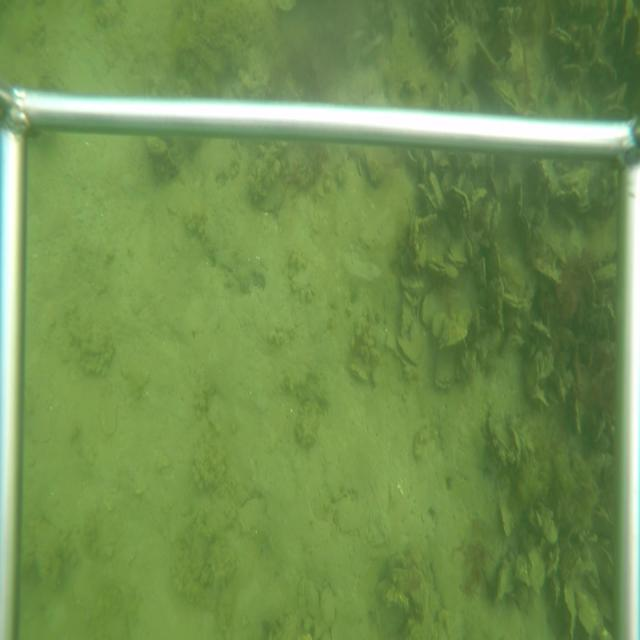Oyster-Closed: (476, 77, 521, 114), (442, 186, 472, 221), (434, 354, 457, 394), (529, 258, 562, 285), (427, 169, 447, 213), (545, 27, 571, 52), (515, 212, 531, 249), (595, 102, 629, 119)
Oyster-Indeterminate: (487, 276, 506, 332), (438, 317, 468, 351), (561, 582, 578, 638), (498, 501, 514, 539), (508, 426, 521, 464)
Oyster-Open: (415, 278, 449, 329), (393, 334, 423, 368), (416, 5, 444, 37), (482, 197, 502, 237), (436, 21, 457, 45), (426, 253, 446, 275)
